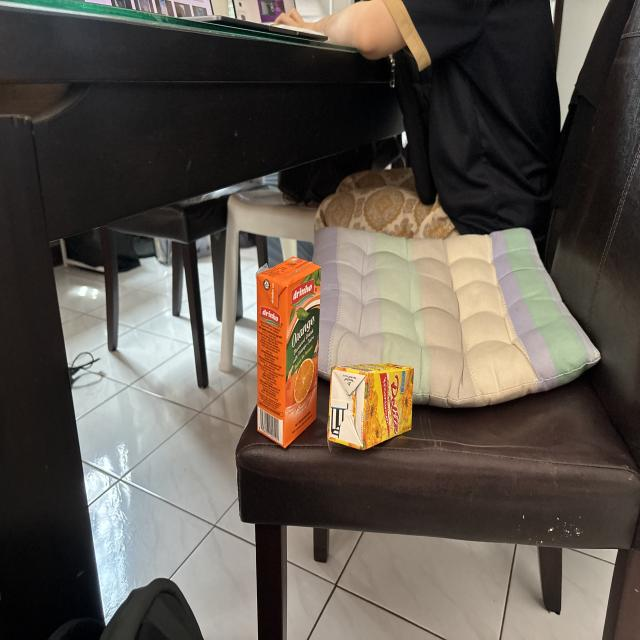drink_carton: (248, 252, 324, 451), (323, 354, 418, 456)
